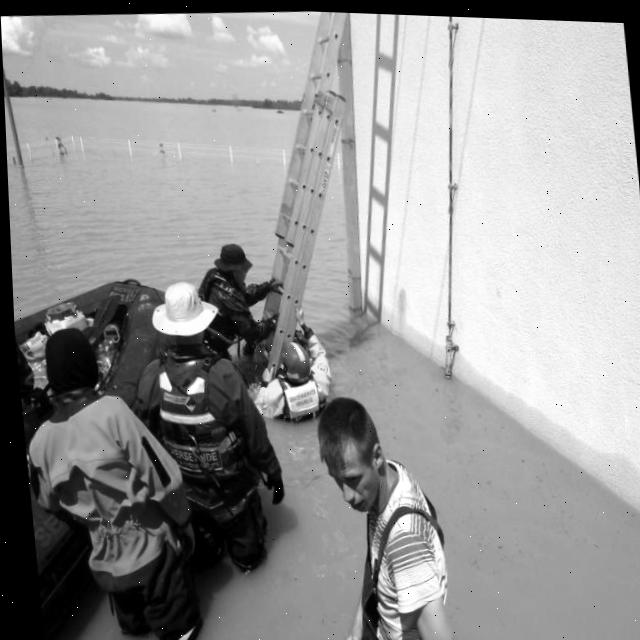civilian: (307, 388, 463, 640)
rescuer: (14, 317, 220, 640), (121, 274, 296, 592), (189, 238, 294, 361), (247, 315, 343, 435)
